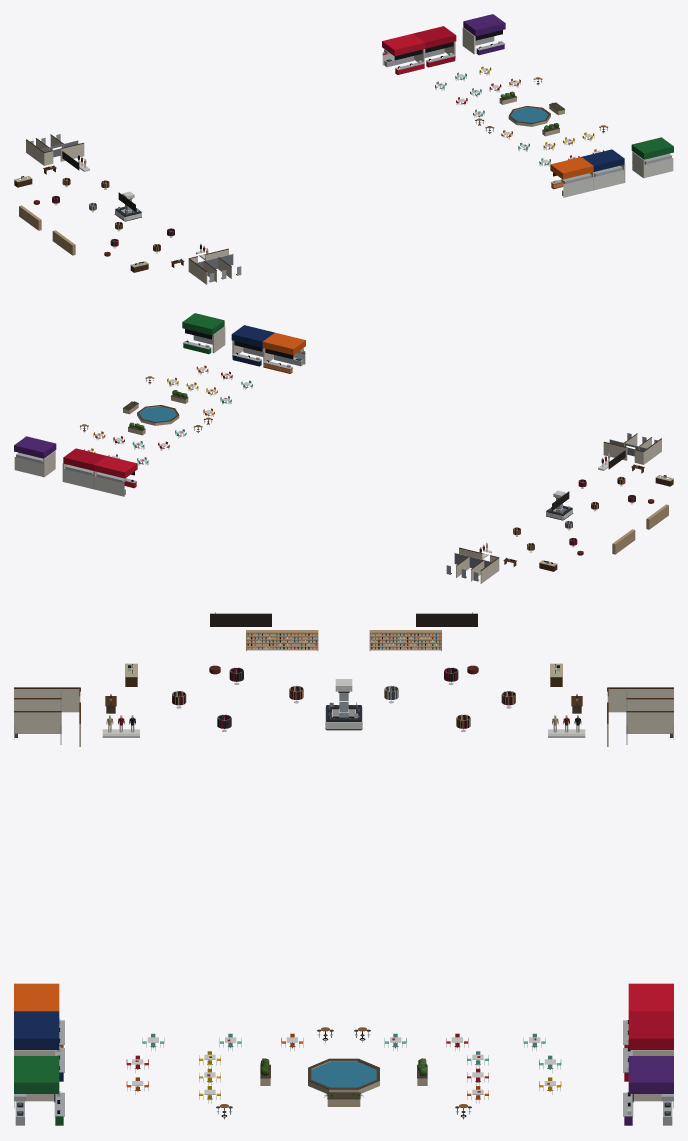
Rendered from gl-wings.glb.
The picture shows the model from 3 angles, top to bottom: view 1: azimuth 30°, elevation 25°; view 2: azimuth 150°, elevation 25°; view 3: azimuth 270°, elevation 25°; orthographic projection. The views are drawn at different scales.
Visible parts, largest first — view 1: gl-wings; view 2: gl-wings; view 3: gl-wings.
Part boxes in pixels (x1,y1,x2,y2): gl-wings: [14, 14, 673, 284]; gl-wings: [14, 313, 673, 583]; gl-wings: [14, 612, 673, 1125].
Size of the model in its own units: 110 by 9 by 64.02.
